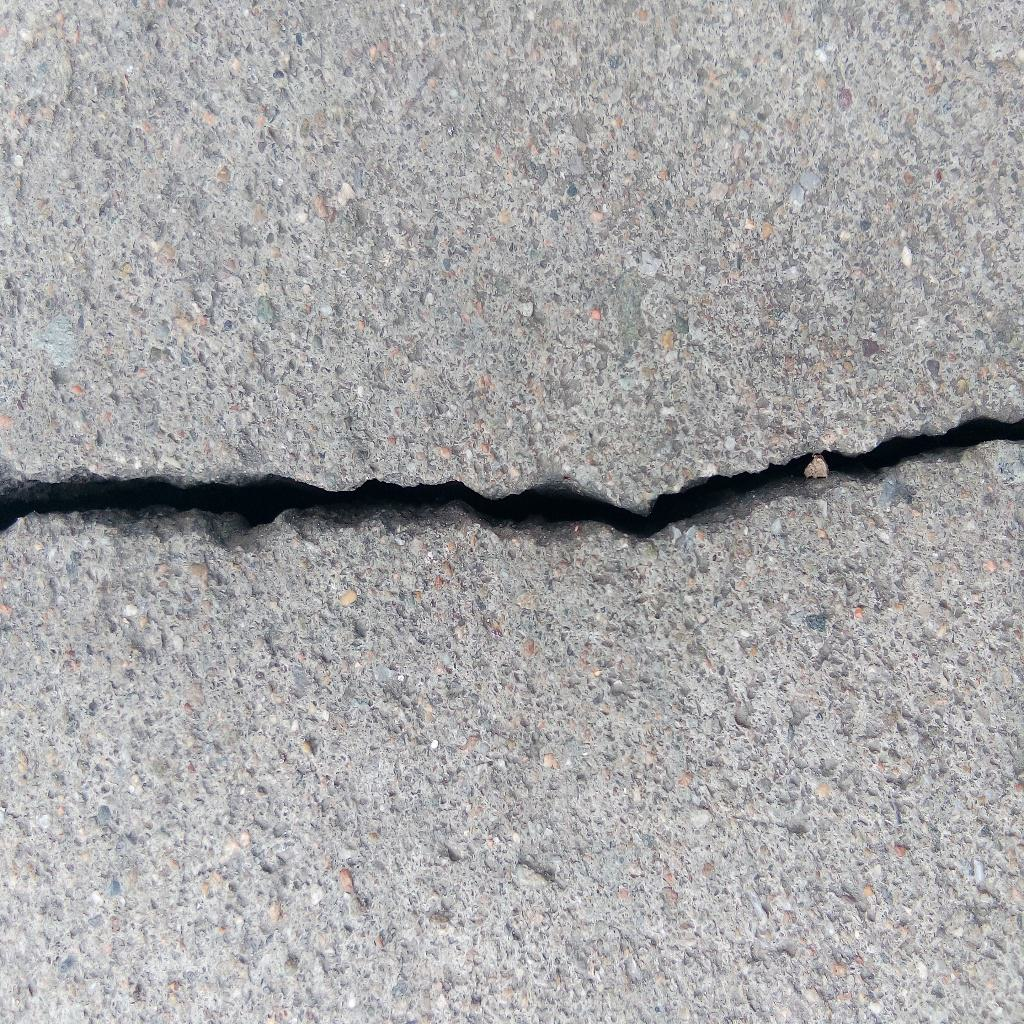Crack: (1, 412, 1024, 545)
